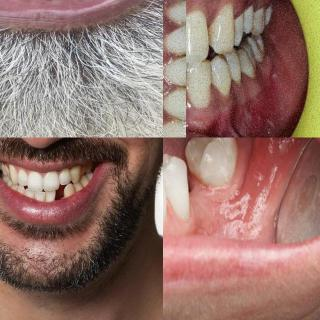cavities: (252, 40, 266, 54)
maligned: (32, 190, 46, 204)
stains: (202, 20, 220, 48)
